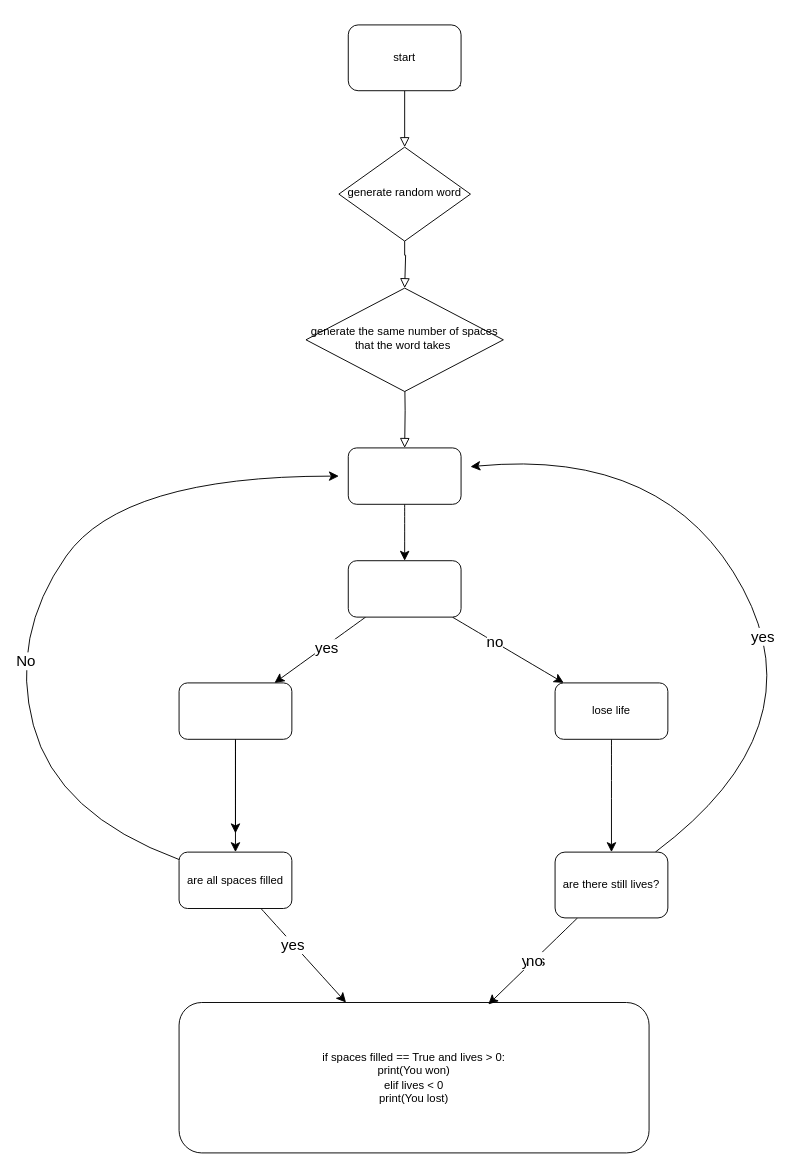
Some shapes in this 791 by 1169 pixel diagram are drawn without their labels. The shapes that lost their labels are listed below. From the top down, each one's centre as x and y in pixels, then its label:
point (404, 475): user input
point (404, 588): is user input == to random word
point (235, 710): print blank space with user input
